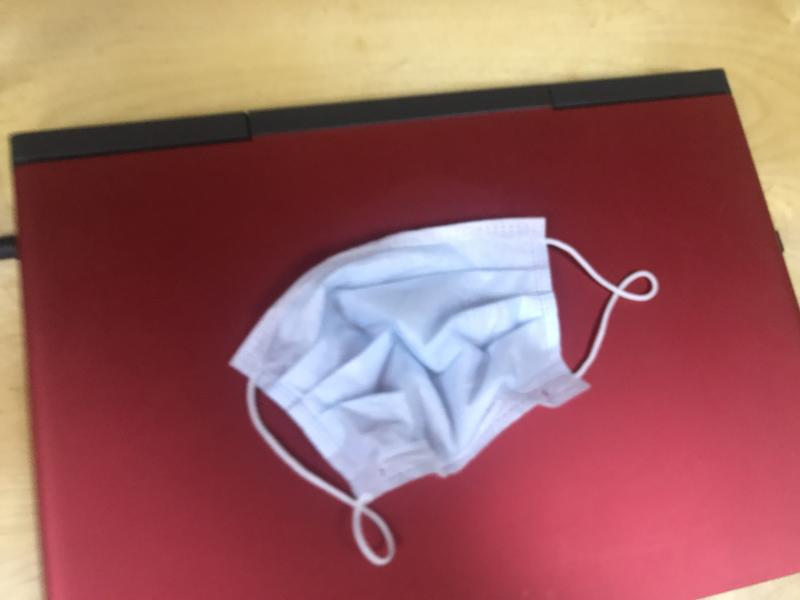medical_mask: (235, 218, 657, 566)
